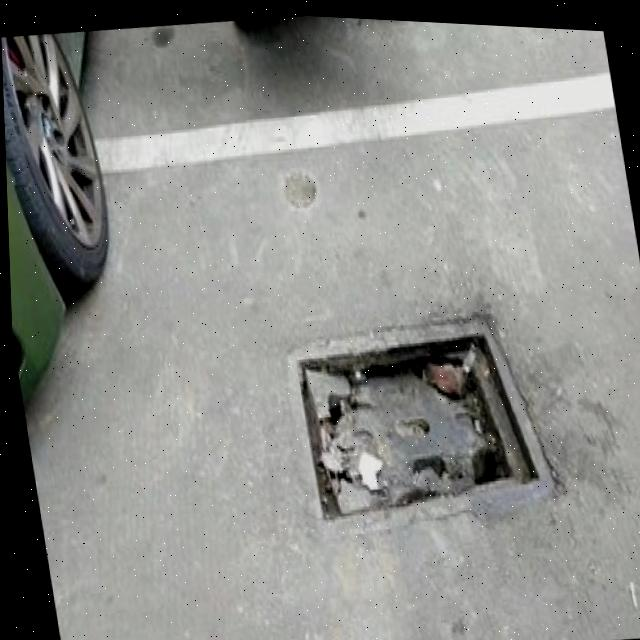manhole: (270, 282, 552, 531)
